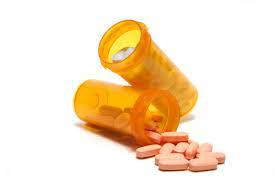jar: (88, 9, 210, 129), (70, 77, 183, 149)
